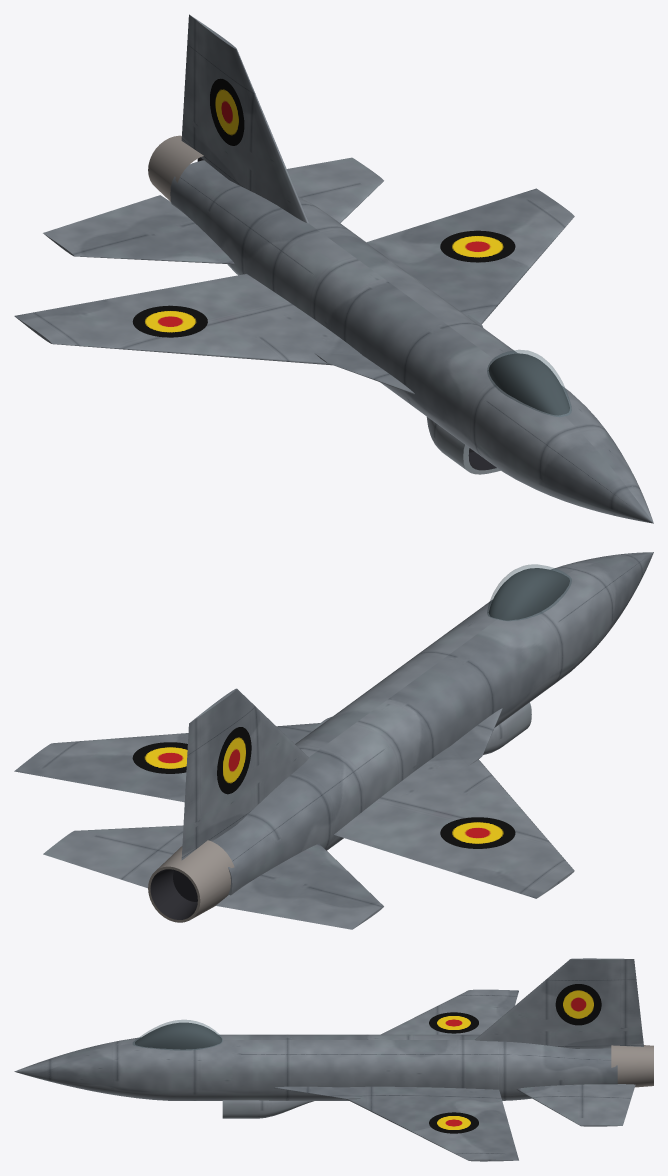
3 renders of one model, top to bottom at view 1: azimuth 30°, elevation 25°; view 2: azimuth 150°, elevation 25°; view 3: azimuth 270°, elevation 25°, orthographic. The views are drawn at different scales.
Visible parts, largest first — view 1: Fuselage, Wing0_R, Wing0_L, Fin3, Htail2_R, Htail2_L, Canopy, Cockpit, Decal_Wing_U_L, Decal_Wing_U_R, Nozzle, Decal_Fin_a (+2 smaller); view 2: Fuselage, Wing0_R, Fin3, Htail2_R, Wing0_L, Htail2_L, Nozzle, Canopy, Cockpit, Decal_Wing_U_R, Decal_Fin_a, Decal_Wing_U_L (+2 smaller); view 3: Fuselage, Fin3, Wing0_L, Htail2_L, Wing0_R, Canopy, Cockpit, Nozzle, Decal_Fin_b, Intake, Decal_Wing_U_L, Decal_Wing_U_R (+1 smaller).
Part boxes in pixels (x1,y1,x2,y2): Fuselage: [170, 160, 653, 523]; Wing0_R: [14, 274, 362, 365]; Wing0_L: [366, 188, 574, 324]; Fin3: [181, 14, 308, 223]; Htail2_R: [43, 195, 234, 264]; Htail2_L: [287, 157, 383, 223]; Canopy: [487, 350, 571, 416]; Cockpit: [488, 353, 569, 415]; Decal_Wing_U_L: [440, 230, 515, 262]; Decal_Wing_U_R: [132, 305, 207, 337]; Nozzle: [148, 135, 203, 201]; Decal_Fin_a: [210, 78, 244, 145]; Fuselage: [212, 552, 653, 895]; Wing0_R: [334, 746, 574, 898]; Fin3: [181, 688, 308, 860]; Htail2_R: [216, 844, 383, 929]; Wing0_L: [14, 723, 319, 802]; Htail2_L: [43, 825, 183, 888]; Nozzle: [148, 840, 234, 922]; Canopy: [487, 564, 571, 620]; Cockpit: [488, 568, 569, 620]; Decal_Wing_U_R: [440, 817, 515, 848]; Decal_Fin_a: [217, 727, 251, 794]; Decal_Wing_U_L: [132, 742, 187, 773]; Fuselage: [14, 1034, 617, 1100]; Fin3: [475, 958, 643, 1048]; Wing0_L: [344, 1086, 518, 1161]; Htail2_L: [517, 1084, 635, 1126]; Wing0_R: [381, 989, 518, 1034]; Canopy: [133, 1020, 222, 1050]; Cockpit: [135, 1022, 221, 1049]; Nozzle: [611, 1045, 653, 1087]; Decal_Fin_b: [555, 984, 601, 1025]; Intake: [222, 1100, 313, 1118]; Decal_Wing_U_L: [429, 1112, 478, 1133]; Decal_Wing_U_R: [429, 1012, 478, 1033].
Bounding box in the file's own units: 9.45 × 4 × 15.03.
6 materials, 2 textured.
